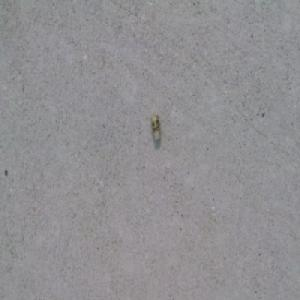BoltNutSet: (150, 115, 160, 143)
